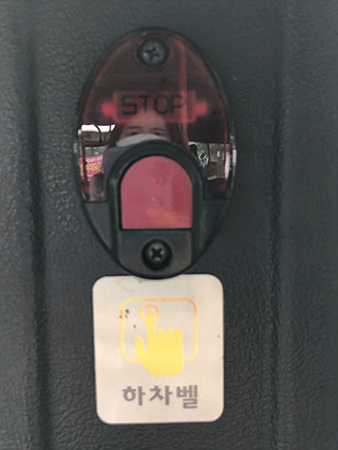bell: (73, 26, 234, 278)
